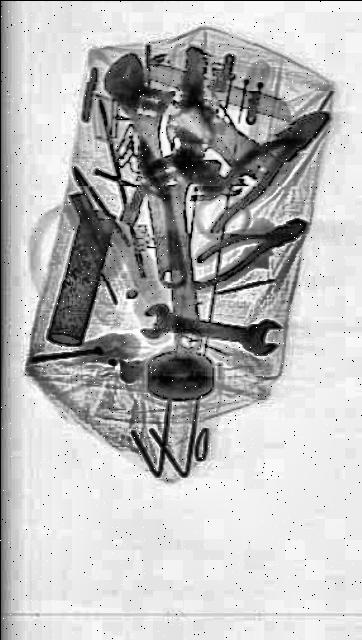Pliers: (196, 92, 334, 238), (184, 206, 310, 296)
Wrench: (138, 305, 280, 359)
